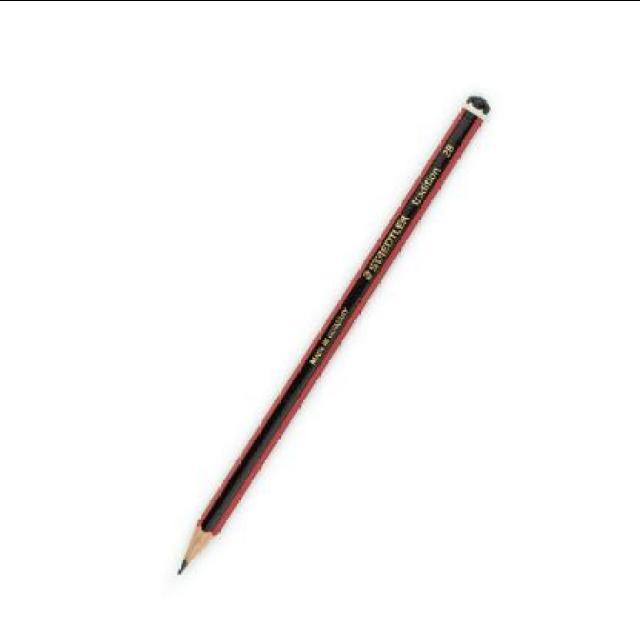pencil: (166, 486, 234, 578)
